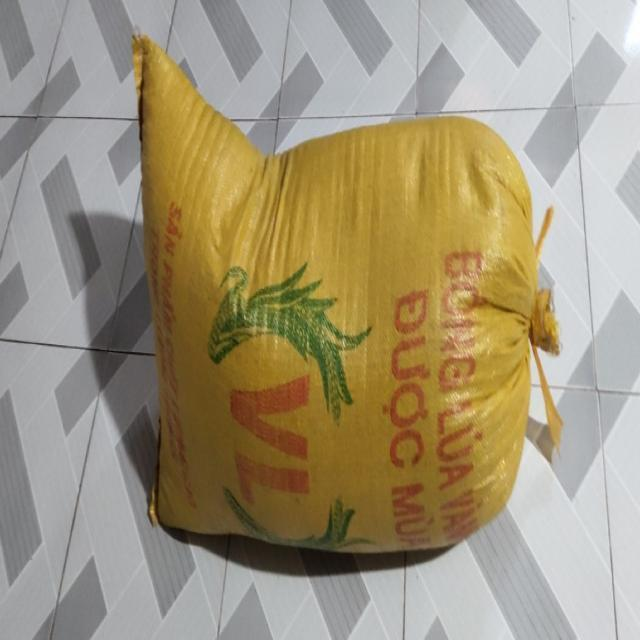gunny_bag: (132, 33, 560, 552)
